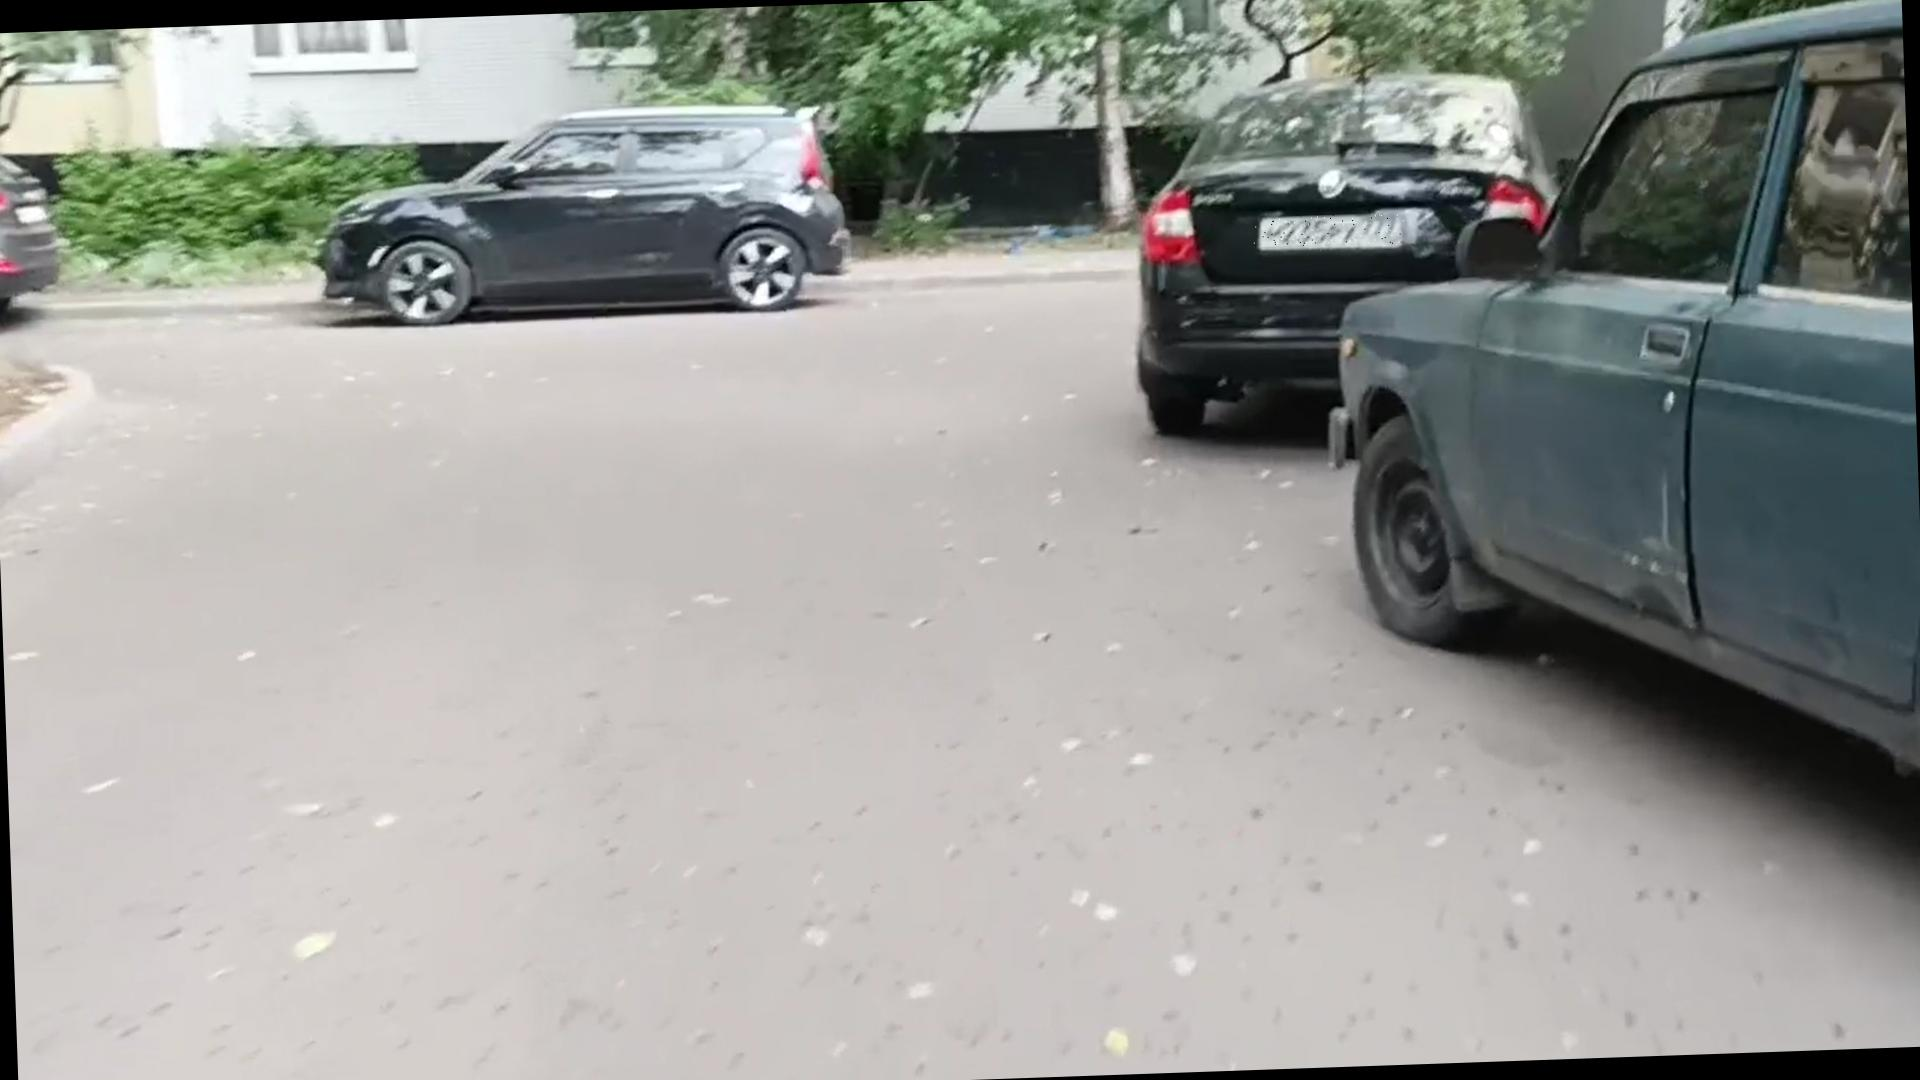plate: (1255, 214, 1407, 250)
